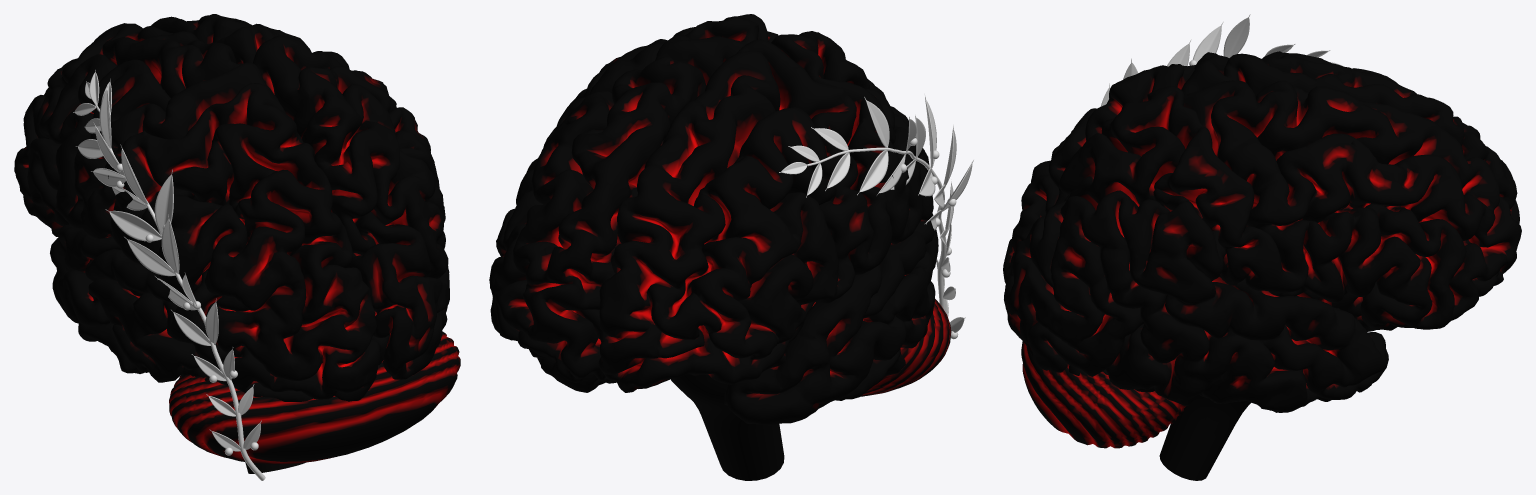
File: brain.glb
The picture shows the model from 3 angles, left to right: view 1: azimuth 30°, elevation 25°; view 2: azimuth 150°, elevation 25°; view 3: azimuth 270°, elevation 25°; orthographic projection. The views are drawn at different scales.
Parts seen in each view (by area): view 1: Brain, Laurel; view 2: Brain, Laurel; view 3: Brain, Laurel.
Part boxes in pixels (x1=…): Brain: x1=14, y1=14, x2=460, y2=473; Laurel: x1=73, y1=70, x2=265, y2=480; Brain: x1=489, y1=14, x2=951, y2=480; Laurel: x1=779, y1=94, x2=973, y2=339; Brain: x1=1003, y1=51, x2=1521, y2=480; Laurel: x1=1074, y1=14, x2=1344, y2=126.
Size of the model in its own units: 1.28 by 1.54 by 1.78.
